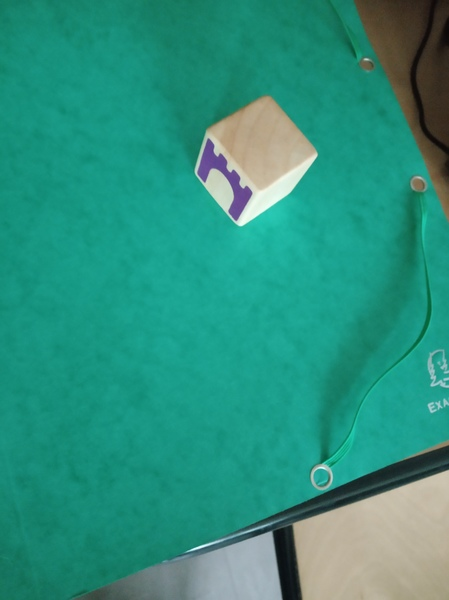violet: (188, 111, 312, 215)
